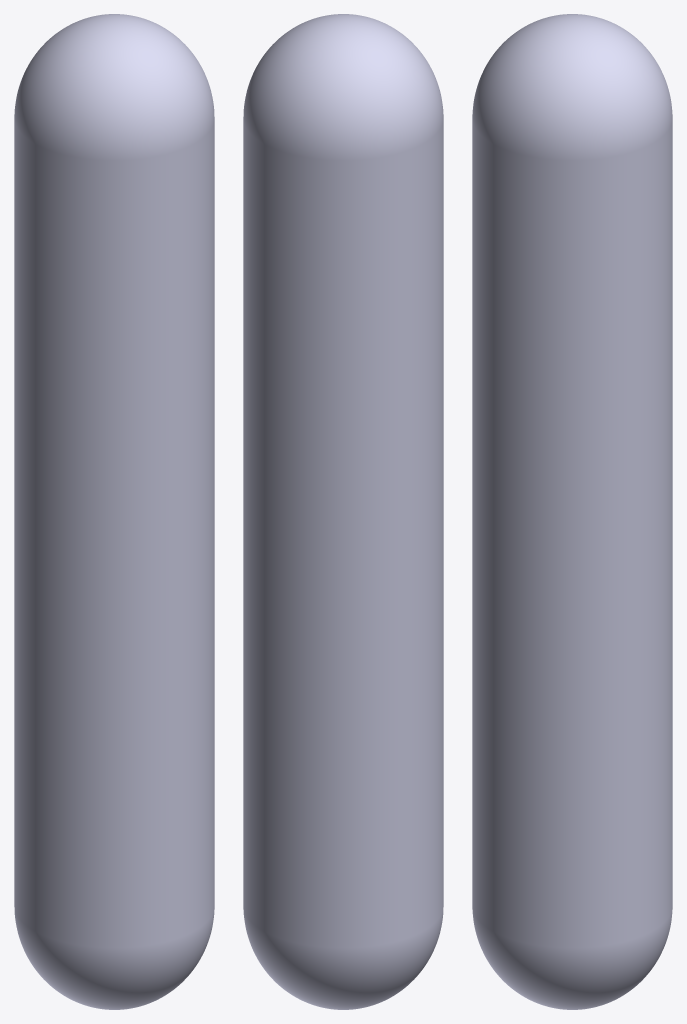
The model's file is Stack.fbx.
3 views of the same model, side by side, from view 1: azimuth 30°, elevation 25°; view 2: azimuth 150°, elevation 25°; view 3: azimuth 270°, elevation 25° (orthographic).
Parts seen in each view (by area): view 1: root; view 2: root; view 3: root.
Part boxes in pixels (x1=…): root: x1=14, y1=14, x2=214, y2=1009; root: x1=243, y1=14, x2=443, y2=1009; root: x1=472, y1=14, x2=672, y2=1009.
Size of the model in its own units: 0.0679 by 0.3663 by 0.0679.
Materials: 1 (1 with a texture image).
